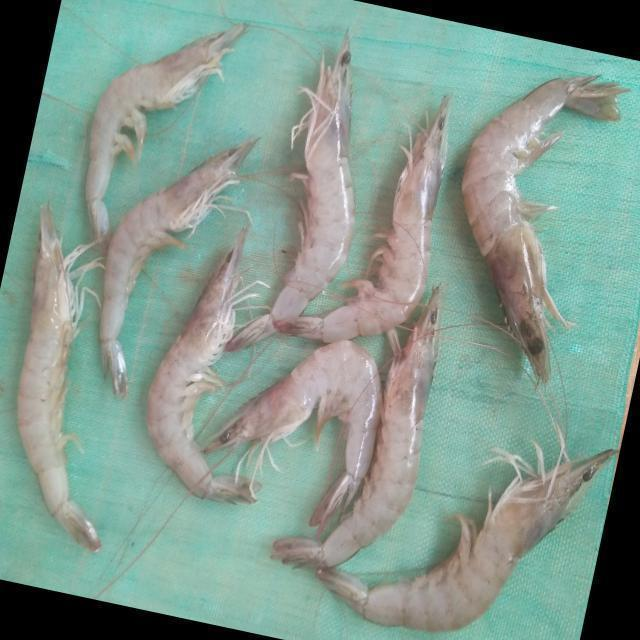shrimp: (315, 444, 617, 632), (462, 74, 629, 382), (272, 286, 439, 569), (273, 94, 450, 342), (224, 31, 354, 351), (98, 137, 256, 397), (84, 21, 246, 254), (204, 340, 381, 532), (146, 226, 259, 503), (16, 204, 101, 552)
